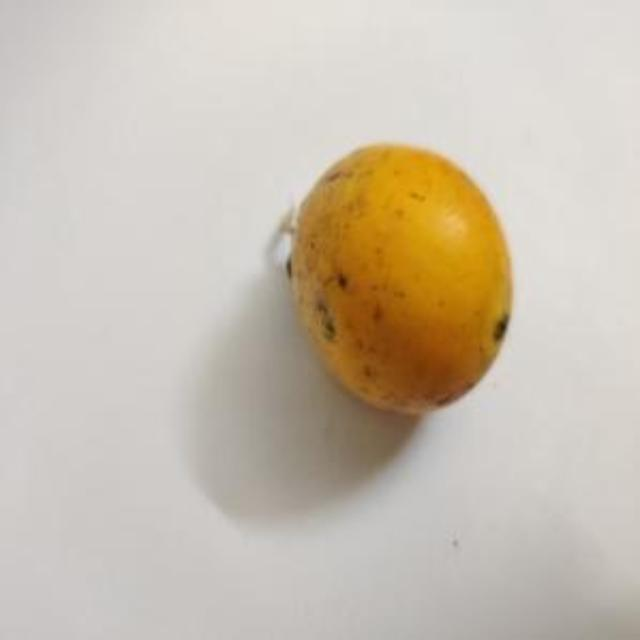good: (287, 143, 514, 417)
